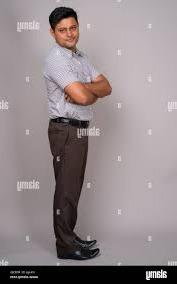Human: (34, 6, 118, 262)
